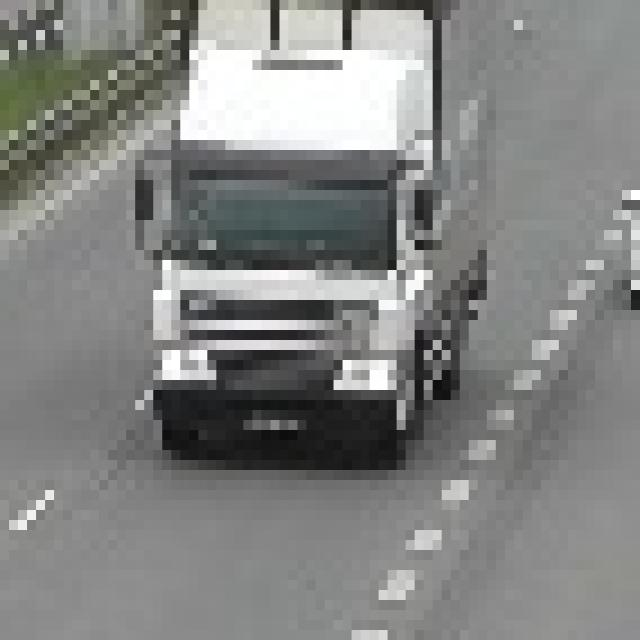truck: (126, 0, 487, 450)
